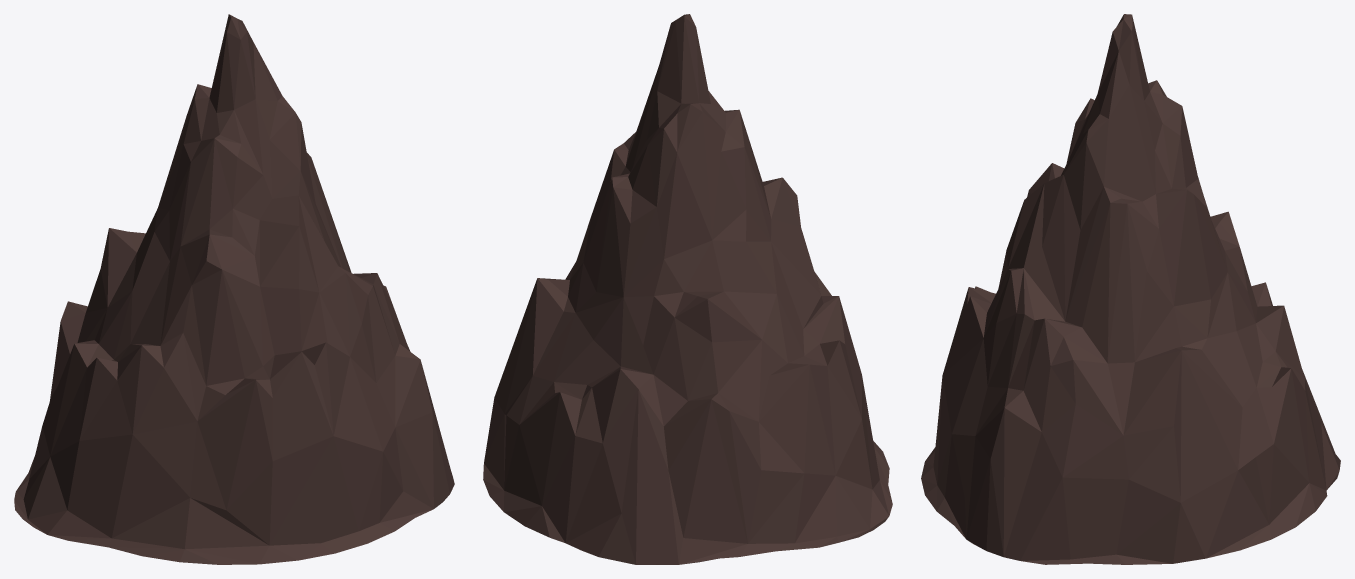
File: montaña-5_lowpoly (1).fbx
3 renders of one model, left to right at view 1: azimuth 30°, elevation 25°; view 2: azimuth 150°, elevation 25°; view 3: azimuth 270°, elevation 25°, orthographic.
Visible parts, largest first — view 1: Circle.007; view 2: Circle.007; view 3: Circle.007.
Boxes of the visible parts, x1,y1,x2,y2 form: Circle.007: [14, 14, 454, 564]; Circle.007: [483, 14, 892, 564]; Circle.007: [921, 14, 1340, 564].
Bounding box in the file's own units: 2250 × 2652 × 2169.
